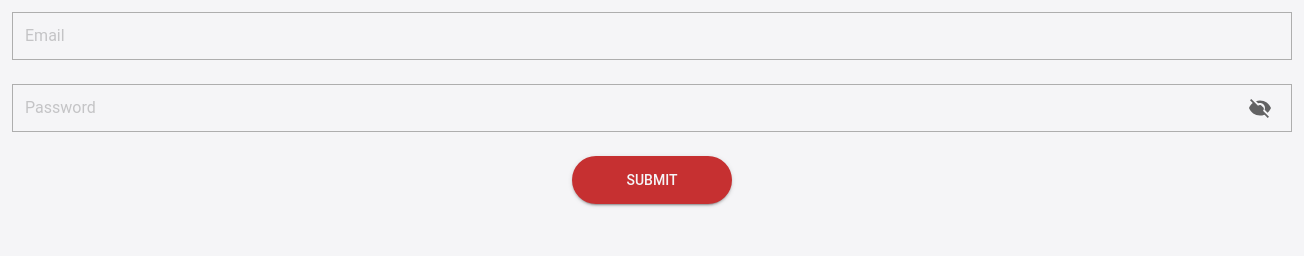
AuthForm › should show validation errors when submitted empty
Click the button "Submit".
click(652, 180)  # box top-left (572, 156), bottom-right (732, 204)
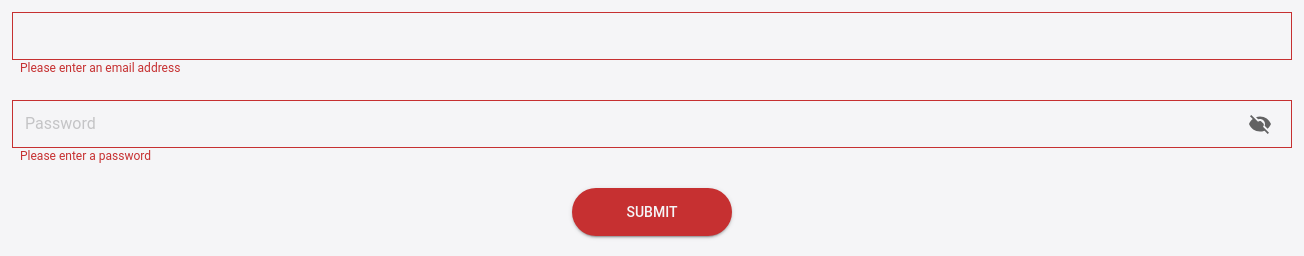
Expected: the text "Please enter an email address" is shown, top-left (20, 61), bottom-right (180, 75)
Expected: the text "Please enter a password" is shown, top-left (20, 149), bottom-right (151, 163)
